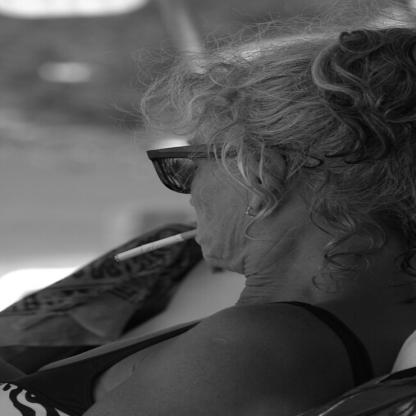smoking: (113, 228, 217, 261)
